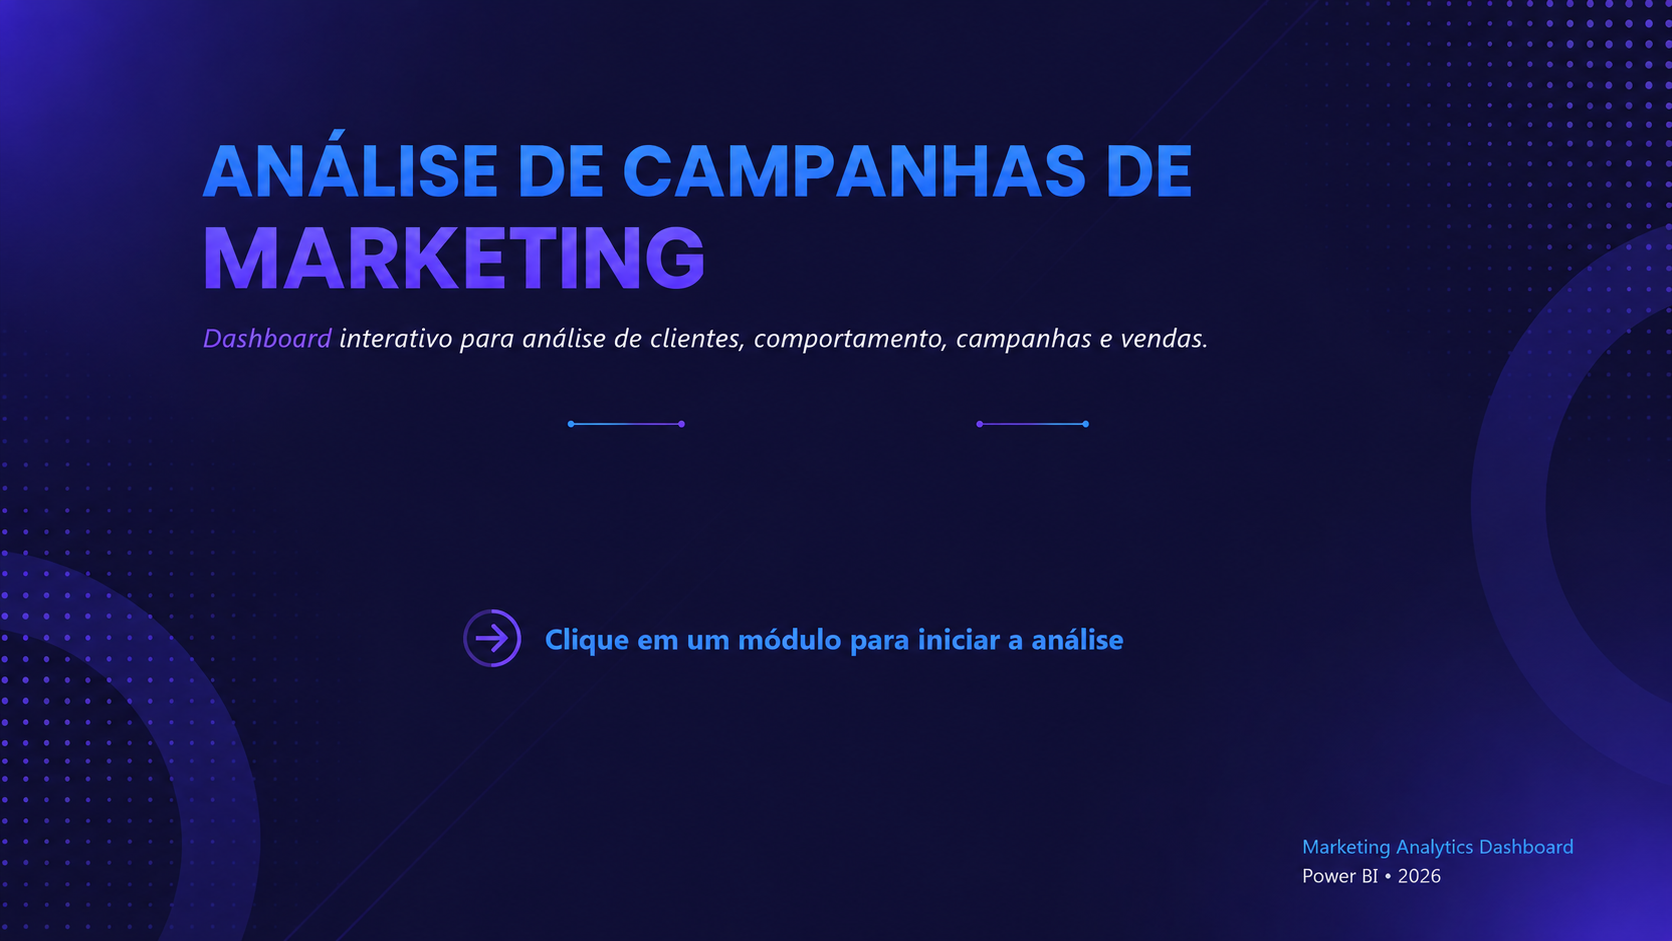

This screenshot's page, from the dashboard's own definition file:
{"tool":"powerbi","page":{"name":"Dashboard Marketing","canvas":[1280,720],"ordinal":0},"visuals":[{"type":"textbox","box":[540,302,200,38],"z":0},{"type":"textbox","box":[15,642,237,40],"z":1000},{"type":"htmlContent443BE3AD55E043BF878BED274D3A6855","fields":{"content":["Medidas.Botao HTML Cliente"]},"box":[157.3,338.3,187.4,123.4],"z":2000},{"type":"htmlContent443BE3AD55E043BF878BED274D3A6855","fields":{"content":["Medidas.Botao HTML Comportamento"]},"box":[411.4,338.3,187.4,123.4],"z":3000},{"type":"htmlContent443BE3AD55E043BF878BED274D3A6855","fields":{"content":["Medidas.Botao HTML Campanhas"]},"box":[666.5,338.3,187.4,123.4],"z":4000},{"type":"htmlContent443BE3AD55E043BF878BED274D3A6855","fields":{"content":["Medidas.Botao HTML Ponto Vendas"]},"box":[915.2,338.3,187.4,123.4],"z":5000},{"type":"actionButton","box":[411.4,340.1,187.4,121.6],"z":6000},{"type":"actionButton","box":[915.2,340.1,187.4,121.6],"z":7000},{"type":"actionButton","box":[157.3,340.1,187.4,121.6],"z":8000},{"type":"actionButton","box":[666.5,340.1,187.4,121.6],"z":9000}]}

Visuals, with their boxes in screenshot pixels (x1, y1, x2, y2), scaled from the page's 1280x720 canvas onto the 1672x941 screenshot:
textbox: detection(705, 395, 967, 444)
textbox: detection(20, 839, 329, 891)
htmlContent443BE3AD55E043BF878BED274D3A6855 - Medidas.Botao HTML Cliente: detection(205, 442, 450, 603)
htmlContent443BE3AD55E043BF878BED274D3A6855 - Medidas.Botao HTML Comportamento: detection(537, 442, 782, 603)
htmlContent443BE3AD55E043BF878BED274D3A6855 - Medidas.Botao HTML Campanhas: detection(871, 442, 1115, 603)
htmlContent443BE3AD55E043BF878BED274D3A6855 - Medidas.Botao HTML Ponto Vendas: detection(1195, 442, 1440, 603)
actionButton: detection(537, 444, 782, 603)
actionButton: detection(1195, 444, 1440, 603)
actionButton: detection(205, 444, 450, 603)
actionButton: detection(871, 444, 1115, 603)
